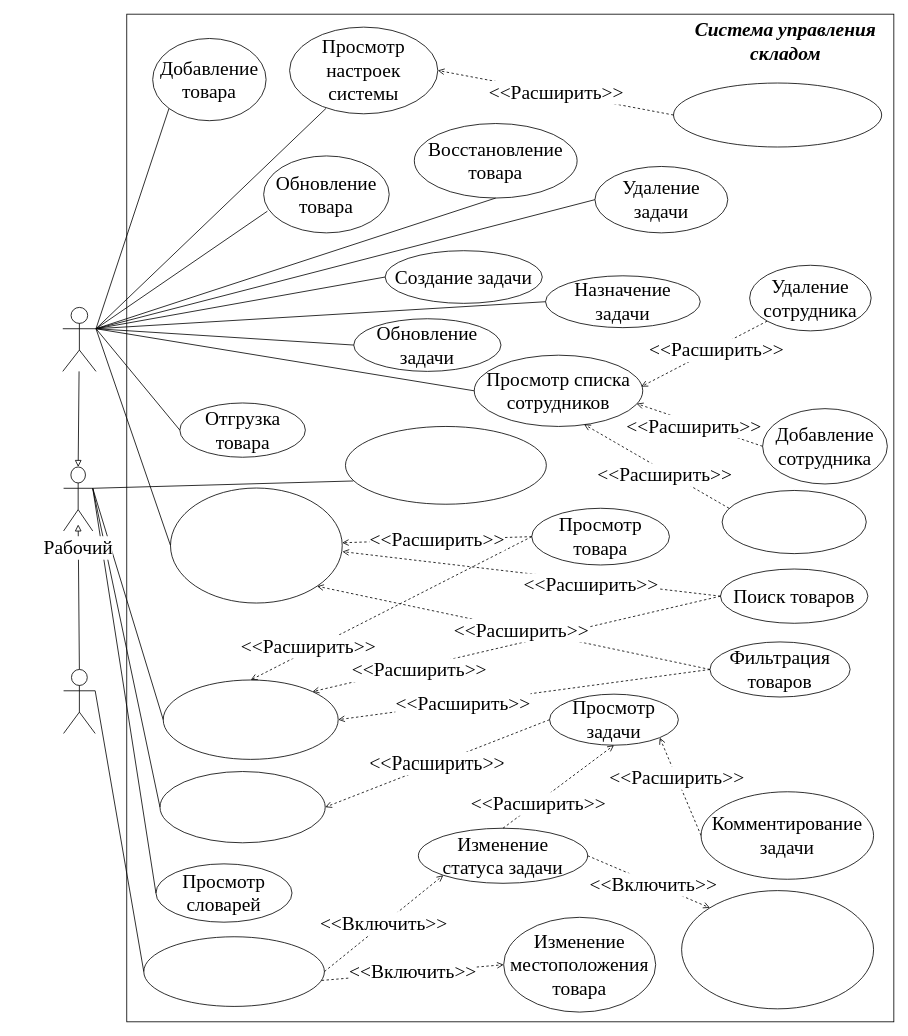
Image size: 908x1036. Some labels were removed from this diagram. Each missing label, with the box of its shape:
Администратор: (62, 307, 96, 371)
Аудитор: (63, 669, 95, 733)
Обновление настроек системы: (673, 82, 882, 147)
Обновление сотрудника: (721, 490, 866, 554)
Подтверждение готовности задачи: (143, 936, 324, 1006)
Просмотр адресной системы: (345, 426, 546, 504)
Просмотр доски задач: (159, 771, 325, 843)
Просмотр списка отгруженных товаров: (170, 487, 342, 603)
Просмотр списка товаров: (162, 679, 338, 759)
Уведомление администратора об изменении статуса задачи: (681, 890, 874, 1009)
